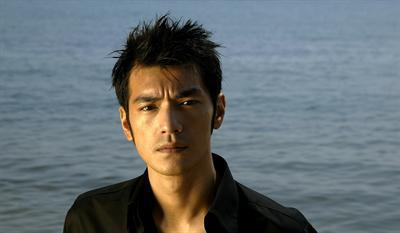people: (92, 37, 271, 210)
